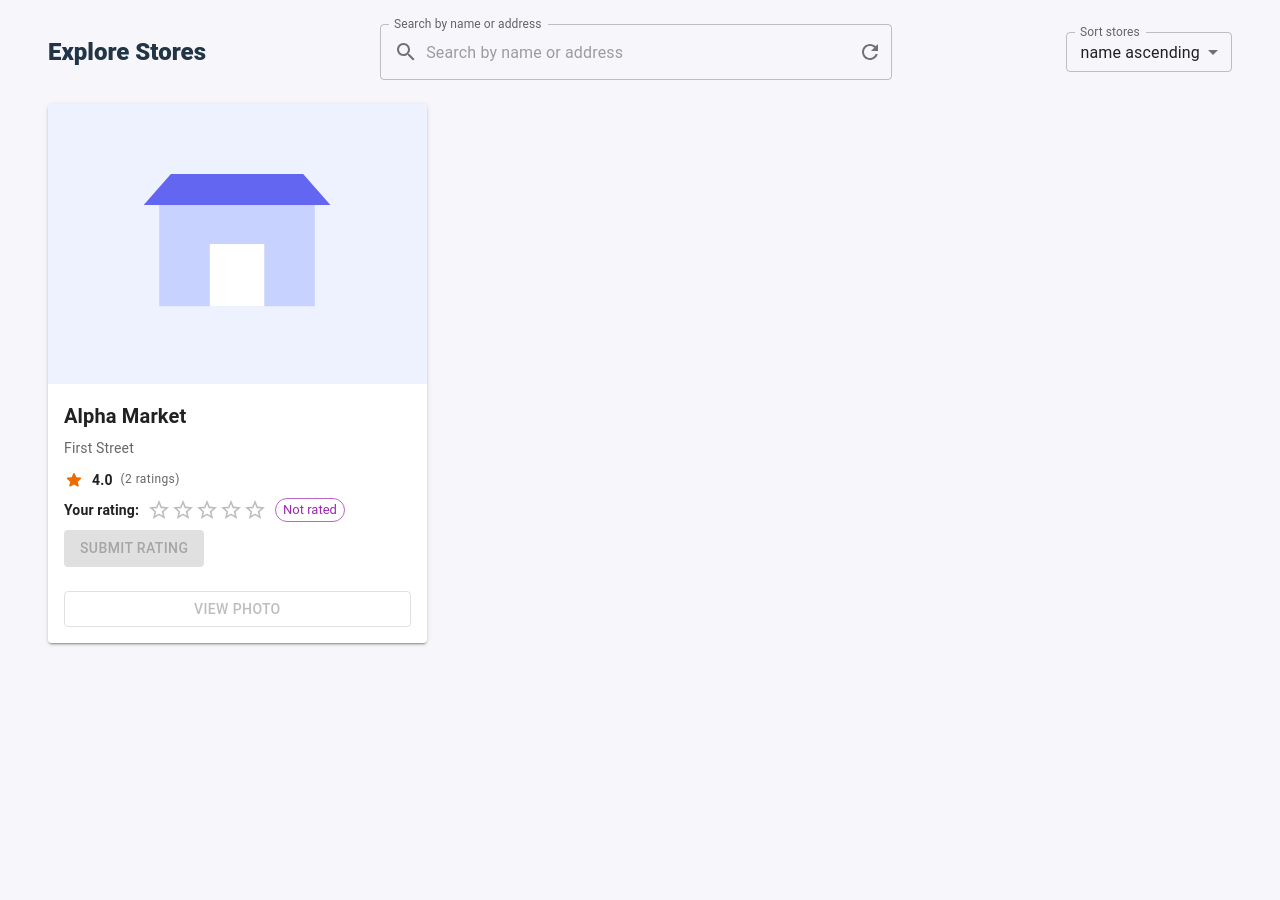
Test: store ratings › submits a new rating and refreshes the displayed count
Expected: the heading "Alpha Market" is shown, [64,404,186,428]
Click the radio button named "4 Stars" at (231, 510), box [219,498,243,522]
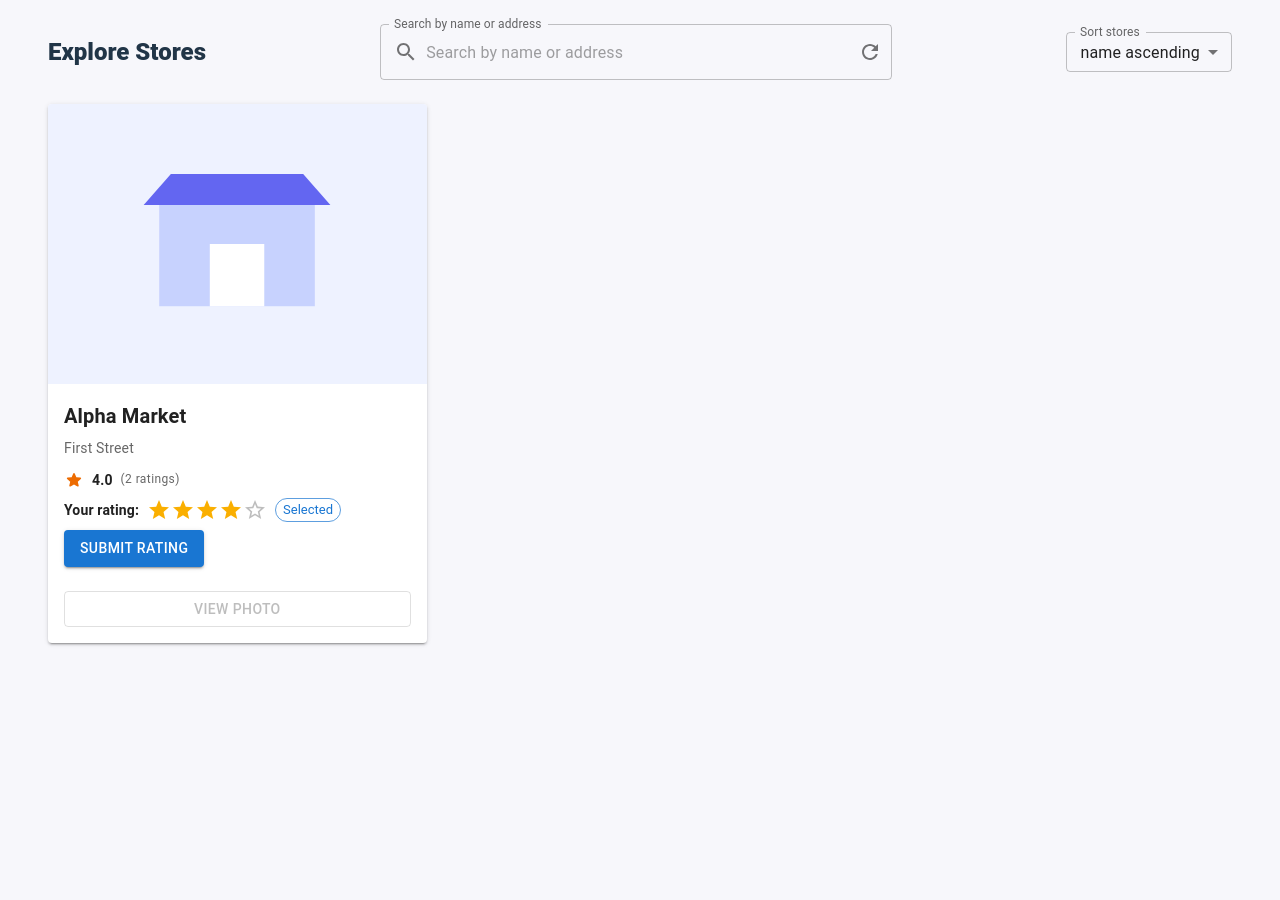
Click the button "Submit Rating" at (134, 548), box [64,530,204,566]
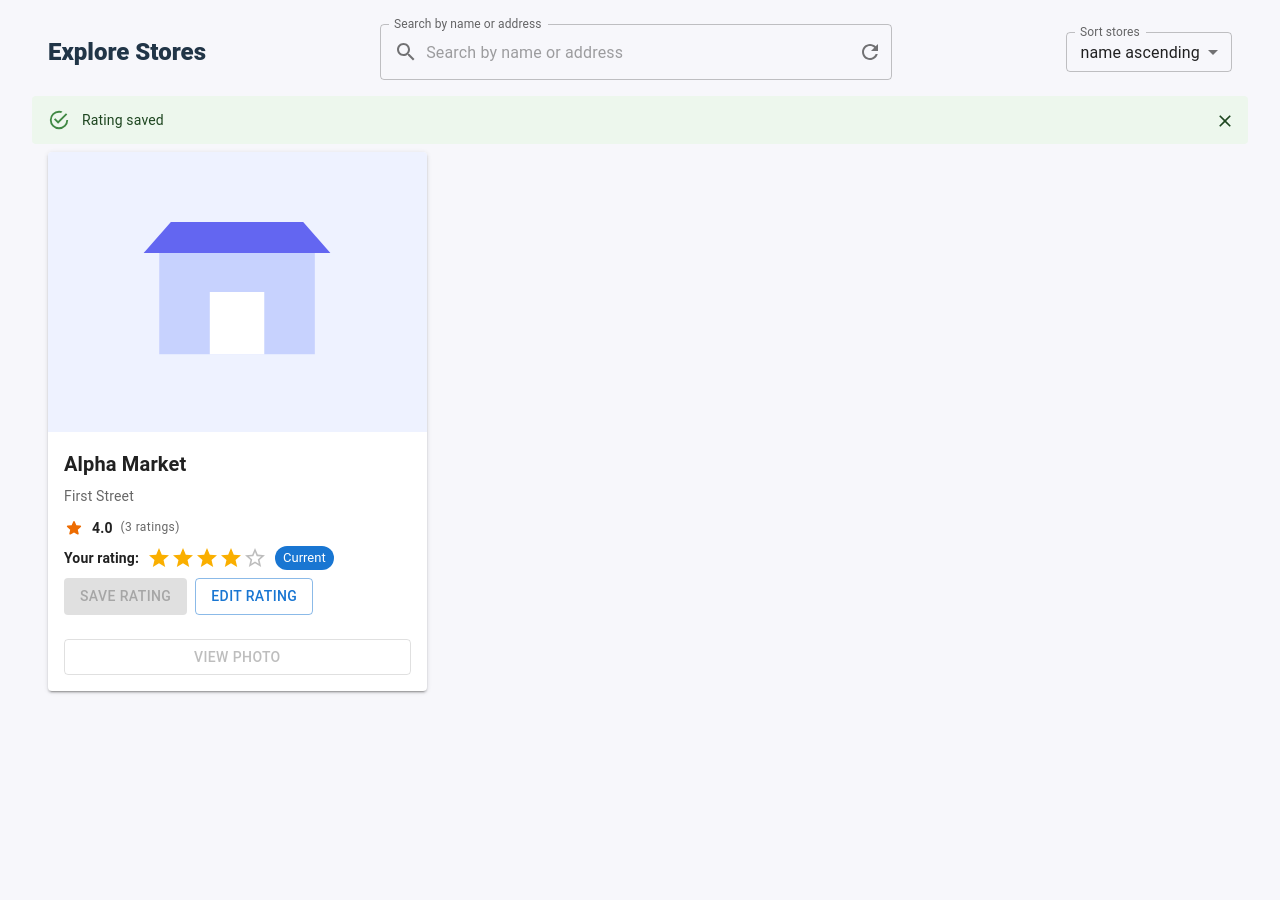
Expected: the text "(3 ratings)" is shown, [121,518,180,538]
Expected: the text "Rating saved" is shown, [82,112,164,128]
